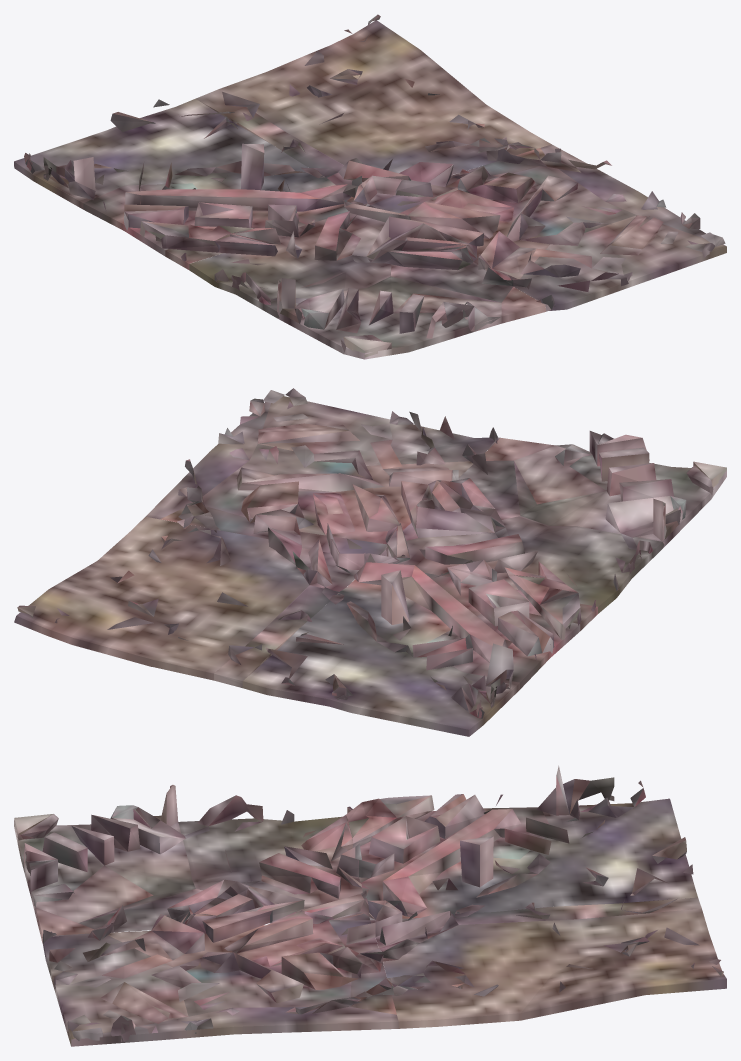
3 renders of one model, top to bottom at view 1: azimuth 30°, elevation 25°; view 2: azimuth 150°, elevation 25°; view 3: azimuth 270°, elevation 25°, orthographic. The views are drawn at different scales.
Parts seen in each view (by area): view 1: Mesh_0; view 2: Mesh_0; view 3: Mesh_0.
Part boxes in pixels (left/top/right/bottom): Mesh_0: left=14, top=14, right=726, bottom=359; Mesh_0: left=14, top=388, right=726, bottom=736; Mesh_0: left=14, top=765, right=726, bottom=1046.
Size of the model in its own units: 532 by 57.13 by 659.
Materials: 1 (1 with a texture image).
